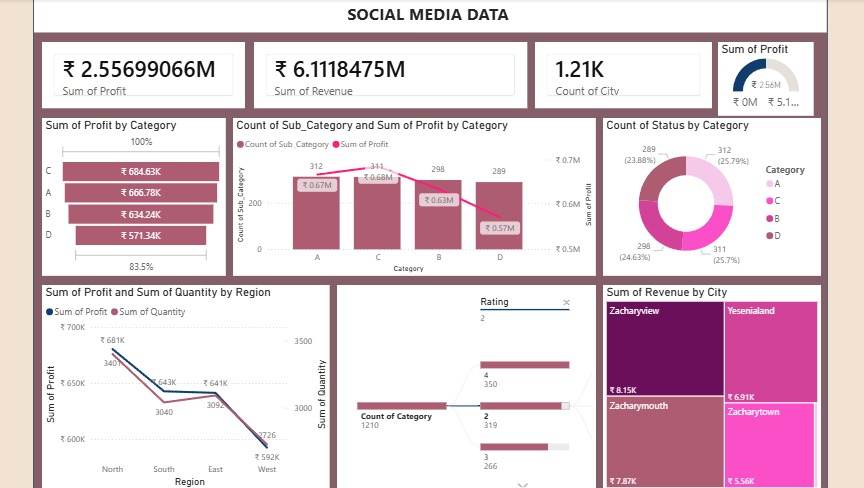

The page's visual inventory and layout, read from the dashboard file:
{"tool":"powerbi","page":{"name":"DASHBOARD","canvas":[1280,720],"ordinal":6},"visuals":[{"type":"shape","box":[10.2,0,1270.2,720],"z":0},{"type":"shape","box":[0,0,53.8,720.6],"z":1000},{"type":"shape","box":[53.8,0,1160.7,47],"z":2000},{"type":"shape","box":[1214.5,0,55.4,720.6],"z":3000},{"type":"funnel","fields":{"Category":["17_Social_Media_Ads (2).Category"],"Y":["Sum(17_Social_Media_Ads (2).Profit)"]},"box":[65.9,174.1,269.3,231.2],"z":4000},{"type":"lineChart","fields":{"Category":["17_Social_Media_Ads (2).Region"],"Y":["Sum(17_Social_Media_Ads (2).Profit)"],"Y2":["Sum(17_Social_Media_Ads (2).Quantity)"]},"box":[65.9,418.5,421.5,301.5],"z":5000},{"type":"decompositionTreeVisual","fields":{"ExplainBy":["17_Social_Media_Ads (2).Rating","17_Social_Media_Ads (2).Quantity"],"Analyze":["CountNonNull(17_Social_Media_Ads (2).Category)"]},"box":[497.6,418.5,379,301.5],"z":6000},{"type":"lineStackedColumnComboChart","fields":{"Category":["17_Social_Media_Ads (2).Category"],"Y":["CountNonNull(17_Social_Media_Ads (2).Sub_Category)"],"Y2":["Sum(17_Social_Media_Ads (2).Profit)"]},"box":[345.4,174.1,531.2,231.2],"z":7000},{"type":"treemap","fields":{"Group":["17_Social_Media_Ads (2).City"],"Values":["Sum(17_Social_Media_Ads (2).Revenue)"]},"box":[886.8,418.5,319,301.5],"z":8000},{"type":"donutChart","fields":{"Category":["17_Social_Media_Ads (2).Category"],"Y":["CountNonNull(17_Social_Media_Ads (2).Status)"]},"box":[886.8,174.1,319,231.2],"z":9000},{"type":"cardVisual","fields":{"Data":["CountNonNull(17_Social_Media_Ads (2).City)"]},"box":[787.3,62.9,259,96.6],"z":10000},{"type":"cardVisual","fields":{"Data":["Sum(17_Social_Media_Ads (2).Profit)"]},"box":[65.9,62.9,297.1,96.6],"z":11000},{"type":"cardVisual","fields":{"Data":["Sum(17_Social_Media_Ads (2).Revenue)"]},"box":[376.1,62.9,399.5,96.6],"z":13000},{"type":"gauge","fields":{"Y":["Sum(17_Social_Media_Ads (2).Profit)"]},"box":[1055.1,62.9,140.5,108.3],"z":14000},{"type":"textbox","box":[54.6,0,1160.3,49.3],"z":15000}]}

Visuals, with their boxes in screenshot pixels (x1, y1, x2, y2), scaled from the page's 1280x720 canvas onto the 864x488 screenshot:
shape: locate(7, 0, 863, 487)
shape: locate(0, 0, 36, 487)
shape: locate(36, 0, 820, 32)
shape: locate(820, 0, 857, 487)
funnel - 17_Social_Media_Ads (2).Category x Sum(17_Social_Media_Ads (2).Profit): locate(44, 118, 226, 275)
lineChart - 17_Social_Media_Ads (2).Region x Sum(17_Social_Media_Ads (2).Profit): locate(44, 284, 329, 487)
decompositionTreeVisual - 17_Social_Media_Ads (2).Rating x 17_Social_Media_Ads (2).Quantity: locate(336, 284, 592, 487)
lineStackedColumnComboChart - 17_Social_Media_Ads (2).Category x CountNonNull(17_Social_Media_Ads (2).Sub_Category): locate(233, 118, 592, 275)
treemap - 17_Social_Media_Ads (2).City x Sum(17_Social_Media_Ads (2).Revenue): locate(599, 284, 814, 487)
donutChart - 17_Social_Media_Ads (2).Category x CountNonNull(17_Social_Media_Ads (2).Status): locate(599, 118, 814, 275)
cardVisual - CountNonNull(17_Social_Media_Ads (2).City): locate(531, 43, 706, 108)
cardVisual - Sum(17_Social_Media_Ads (2).Profit): locate(44, 43, 245, 108)
cardVisual - Sum(17_Social_Media_Ads (2).Revenue): locate(254, 43, 524, 108)
gauge - Sum(17_Social_Media_Ads (2).Profit): locate(712, 43, 807, 116)
textbox: locate(37, 0, 820, 33)
